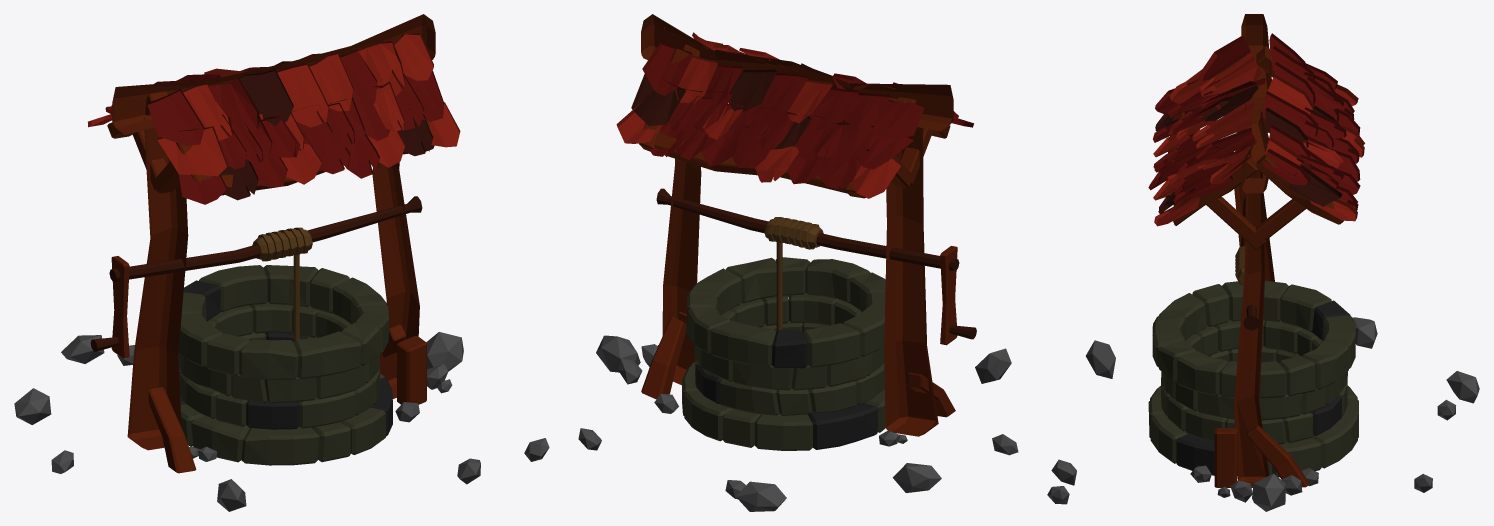
File: Well.obj
3 renders of one model, left to right at view 1: azimuth 30°, elevation 25°; view 2: azimuth 150°, elevation 25°; view 3: azimuth 270°, elevation 25°, orthographic. The views are drawn at different scales.
Parts seen in each view (by area): view 1: Plane.001; view 2: Plane.001; view 3: Plane.001.
Part boxes in pixels (x1=…): Plane.001: x1=14, y1=14, x2=549, y2=511; Plane.001: x1=578, y1=14, x2=1018, y2=511; Plane.001: x1=1047, y1=14, x2=1479, y2=511.
Bounding box in the file's own units: 29.7 × 25.35 × 27.94.
